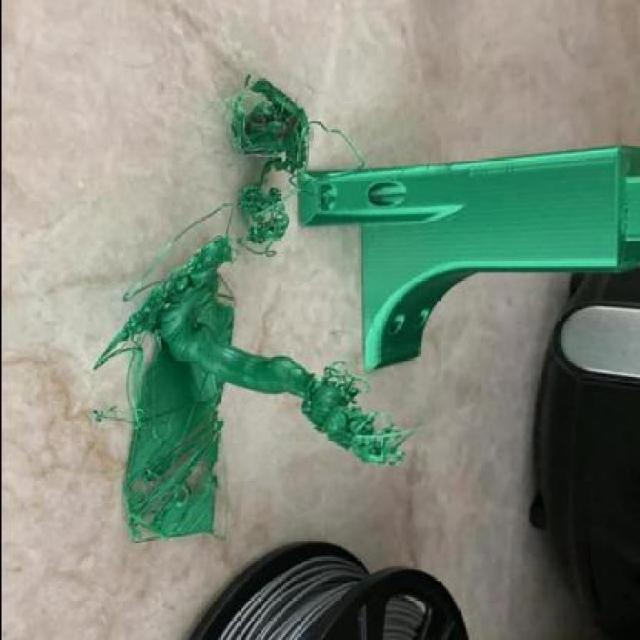Spaghetti: (93, 203, 242, 434), (220, 66, 374, 260), (298, 358, 418, 476)
